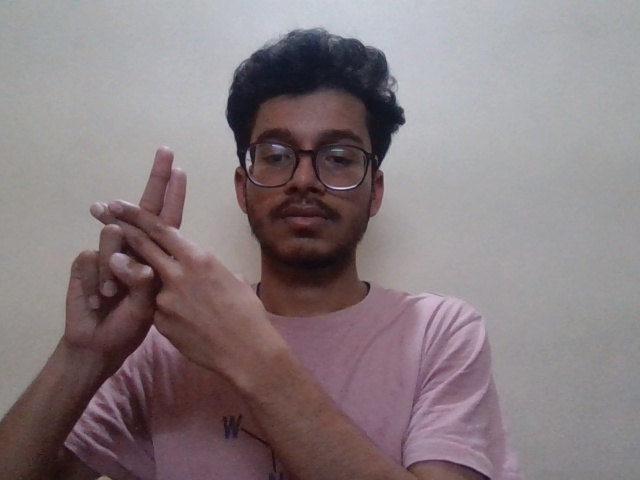disabled: (53, 144, 296, 389)
